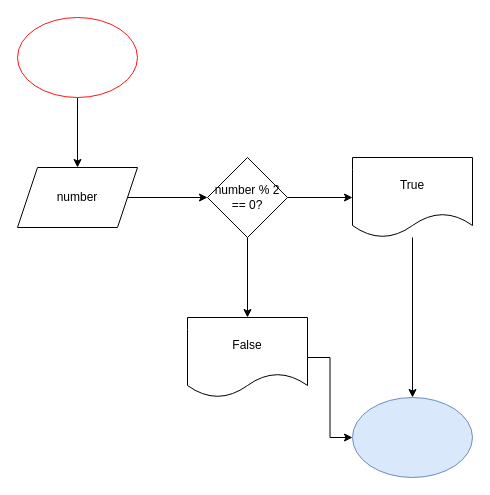
The diagram is 490 pixels wide and 495 high, and some of its shapes have lost their labels. The centre of each missing label's shape, as x and y in pixels:
"Finish" goes at [412,437].
"Start" goes at [77,57].
